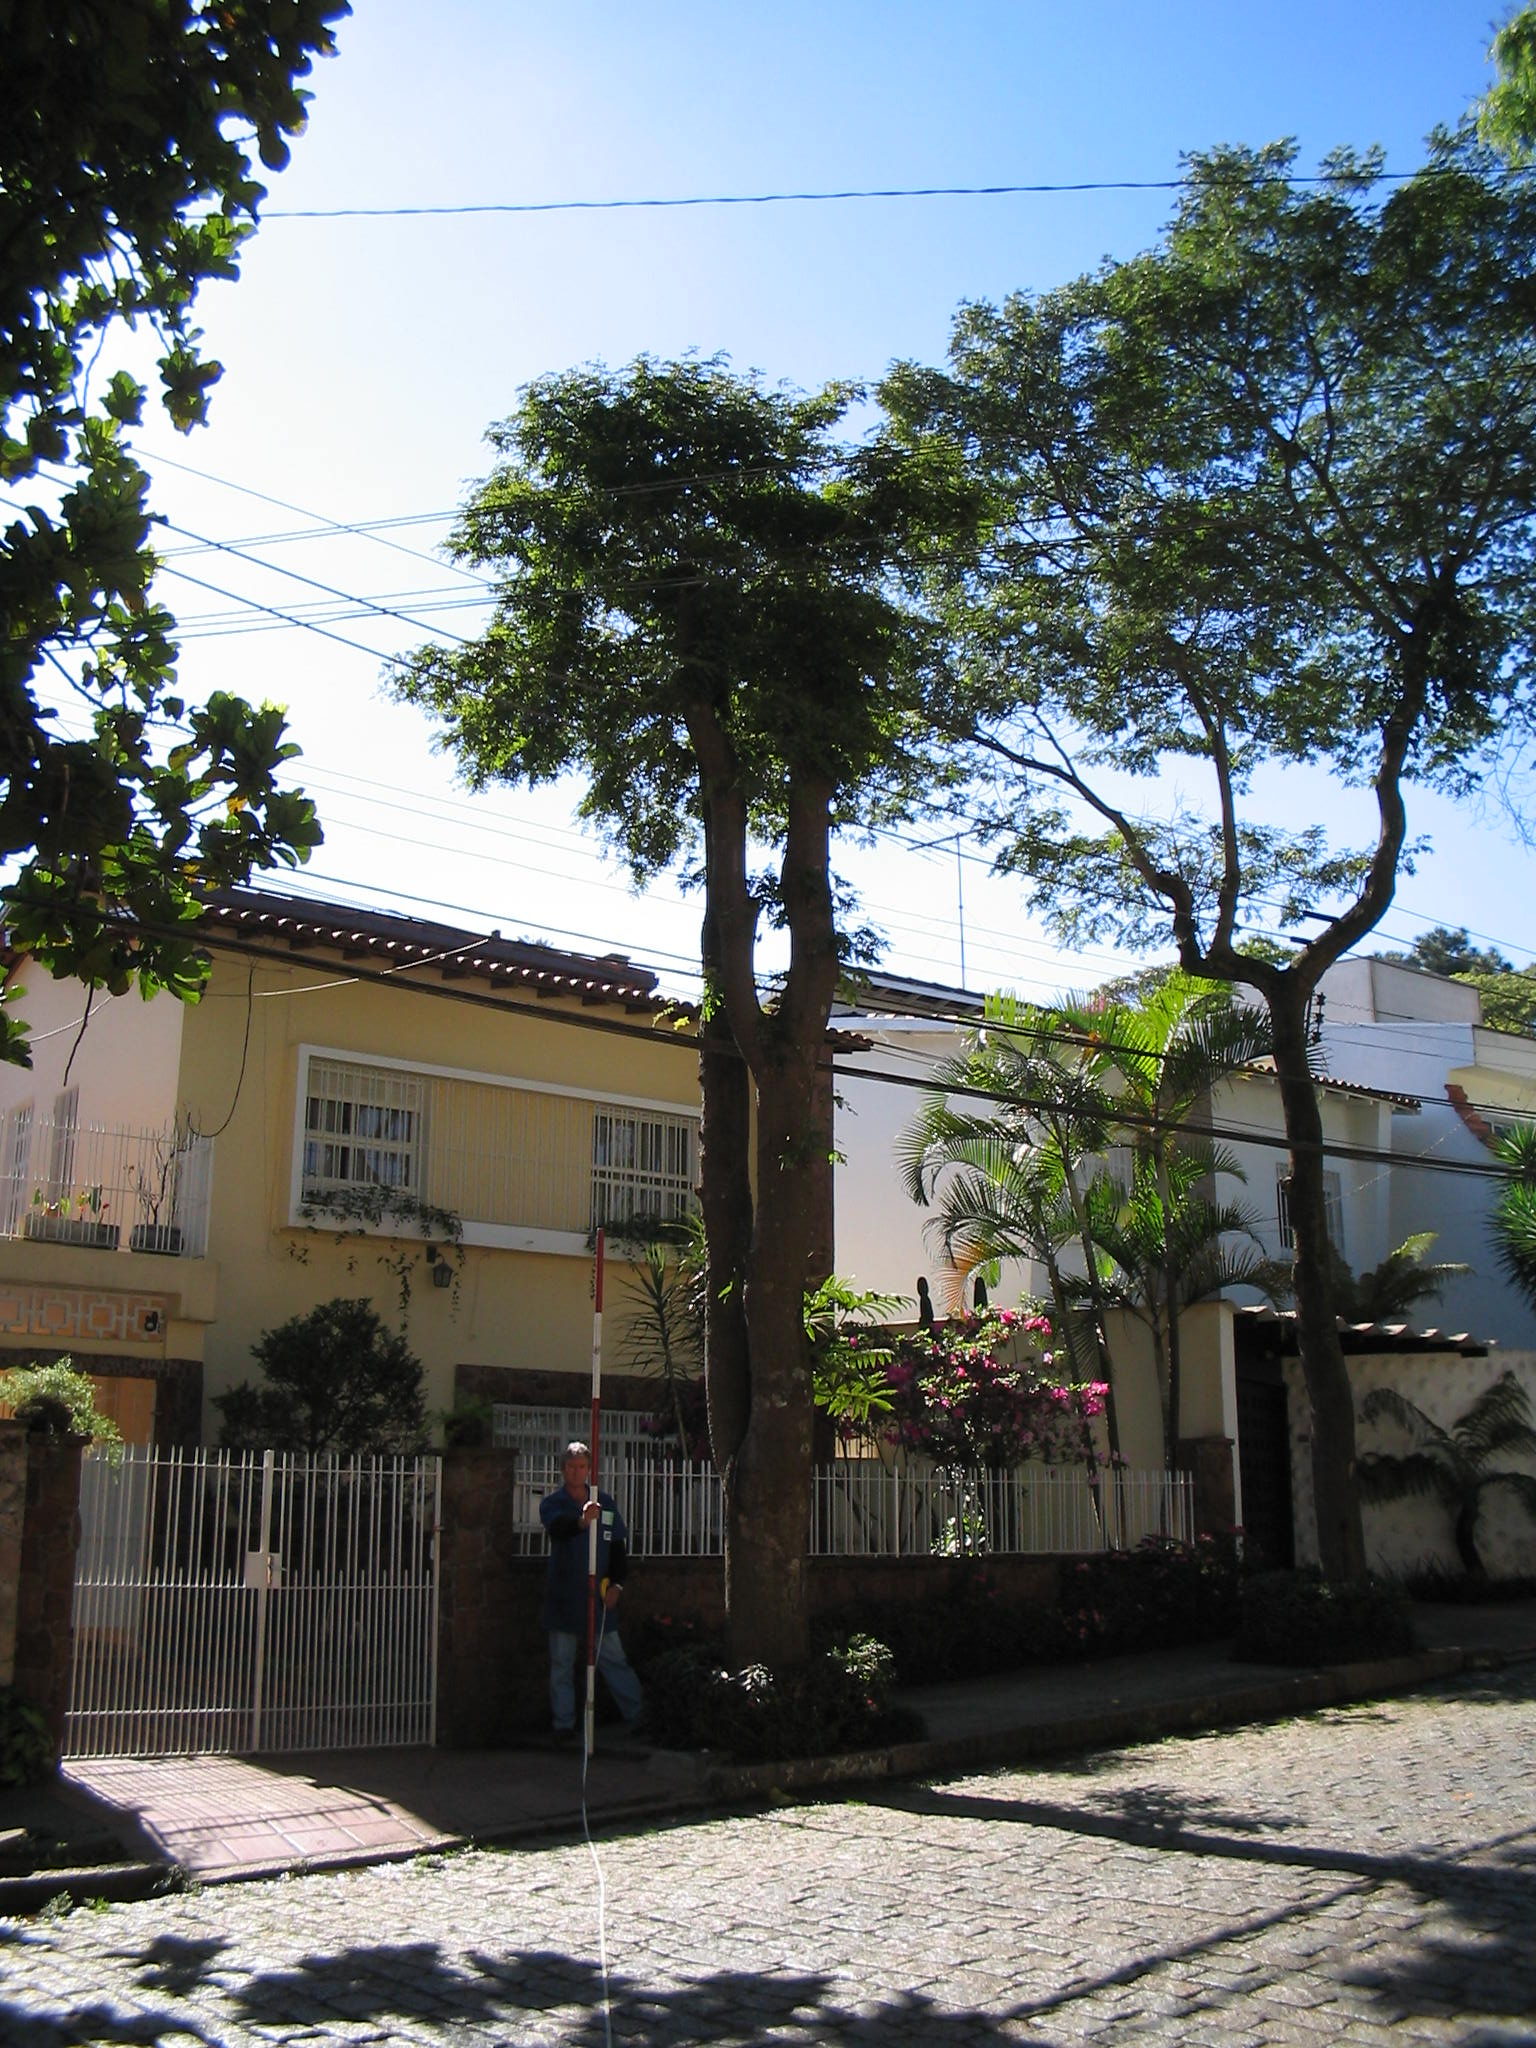crown: (889, 150, 1536, 868), (381, 363, 1066, 940)
stem: (1194, 987, 1436, 1650), (657, 1453, 886, 1755)
stick: (566, 1229, 624, 1763)
tree: (881, 142, 1536, 1648), (378, 361, 1086, 1750)
